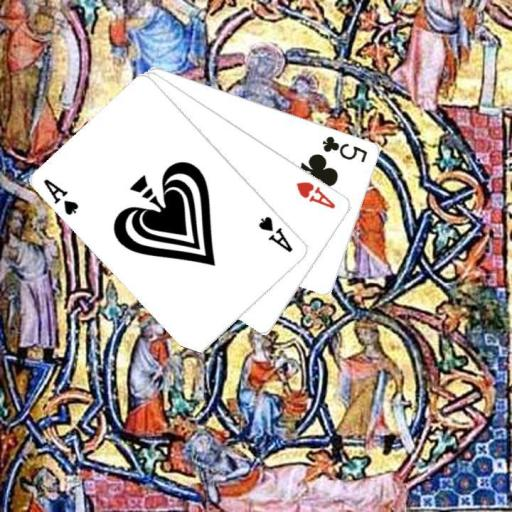5C: (319, 132, 370, 164)
AH: (293, 178, 338, 210)
AS: (41, 175, 81, 217), (256, 213, 295, 254)
